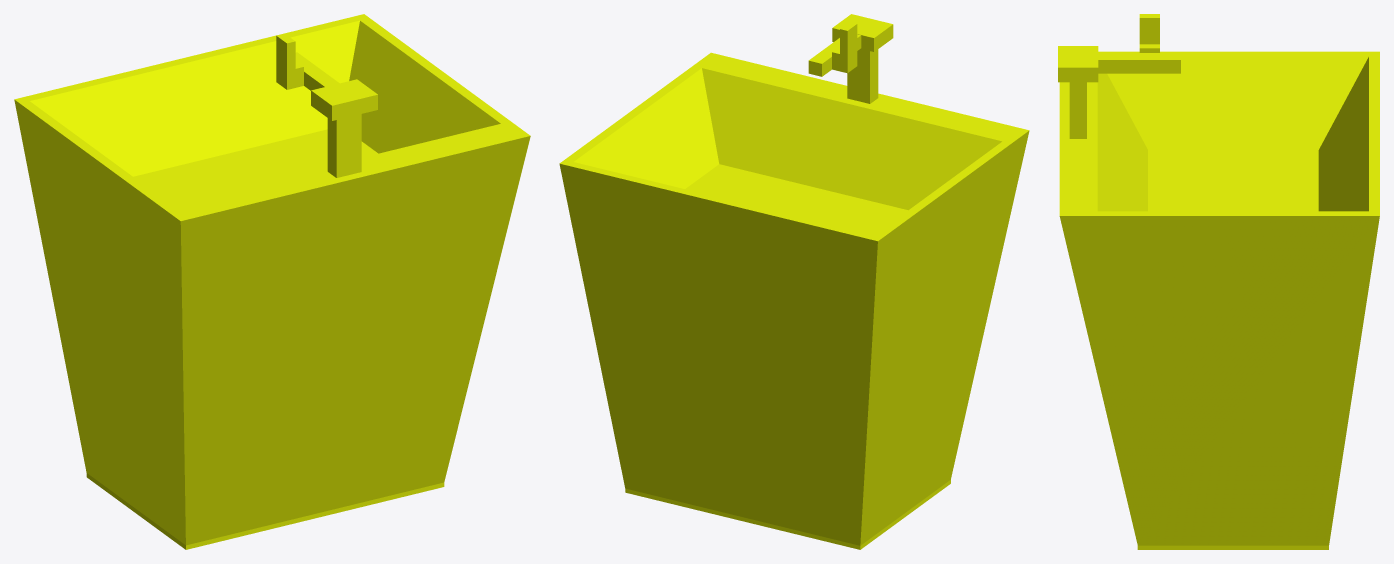
Rendered from Sink2.FBX.
3 renders of one model, left to right at view 1: azimuth 30°, elevation 25°; view 2: azimuth 150°, elevation 25°; view 3: azimuth 270°, elevation 25°, orthographic. The views are drawn at different scales.
Parts seen in each view (by area): view 1: Box008; view 2: Box008; view 3: Box008.
Boxes of the visible parts, left/top/right/bottom form: Box008: left=14, top=14, right=530, bottom=549; Box008: left=559, top=14, right=1029, bottom=549; Box008: left=1058, top=14, right=1379, bottom=549.
Bounding box in the file's own units: 1.01 × 1.33 × 0.8378.
